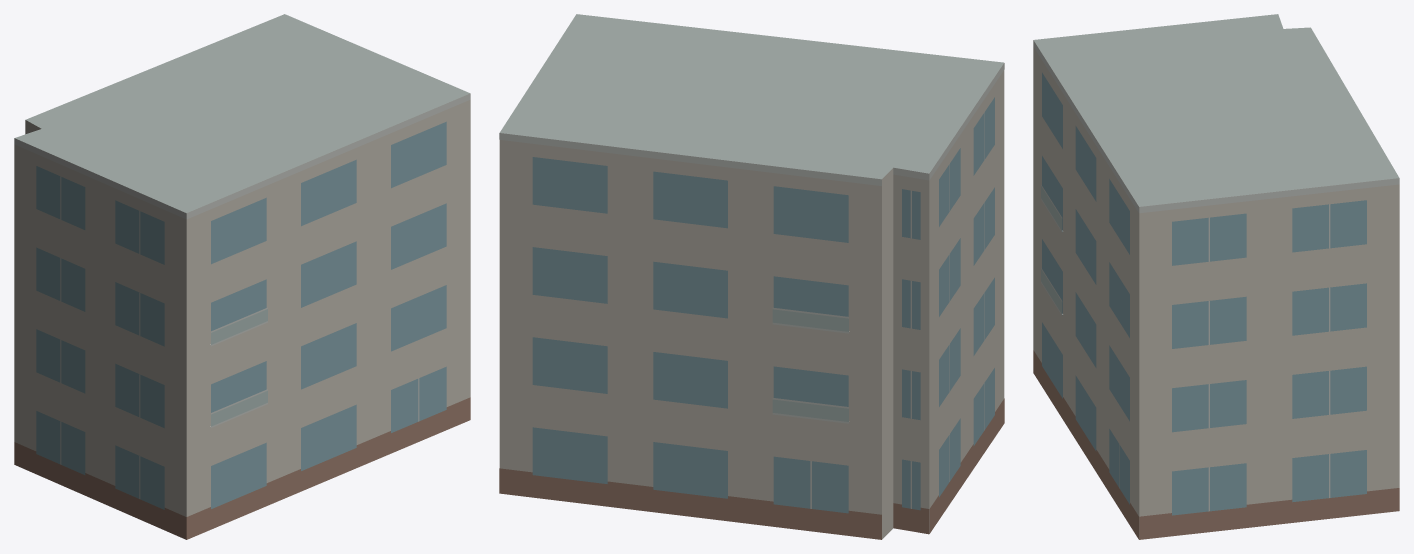
The model's file is survey-upis-32931074.glb.
The picture shows the model from 3 angles, left to right: view 1: azimuth 30°, elevation 25°; view 2: azimuth 150°, elevation 25°; view 3: azimuth 270°, elevation 25°; orthographic projection. The views are drawn at different scales.
Visible parts, largest first — view 1: survey-upis-32931074.tmp; view 2: survey-upis-32931074.tmp; view 3: survey-upis-32931074.tmp.
Part boxes in pixels (left/top/right/bottom): survey-upis-32931074.tmp: left=14, top=14, right=470, bottom=539; survey-upis-32931074.tmp: left=499, top=14, right=1004, bottom=539; survey-upis-32931074.tmp: left=1033, top=14, right=1399, bottom=539.
Bounding box in the file's own units: 15.92 × 12.8 × 12.77.
